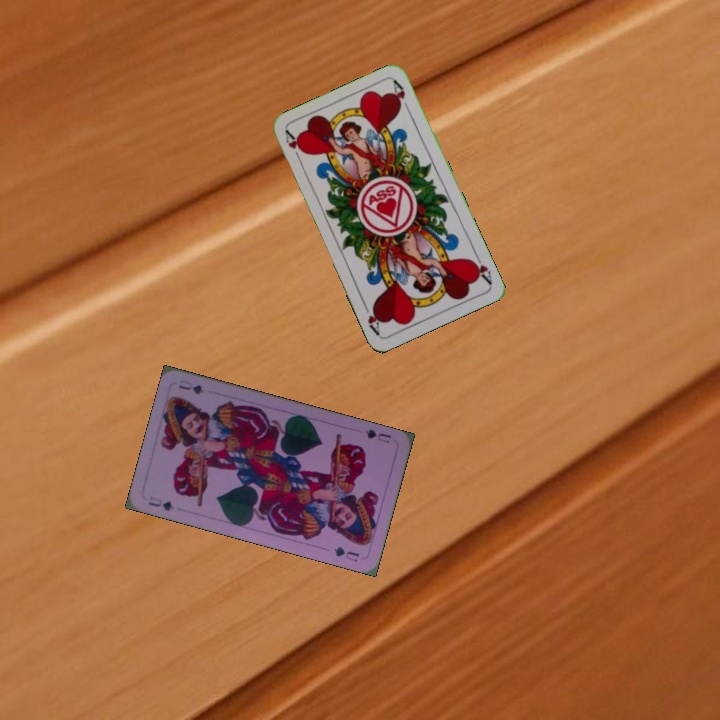GU: (361, 425, 393, 446), (144, 493, 176, 514)
HA: (466, 248, 494, 286), (281, 127, 307, 165)
